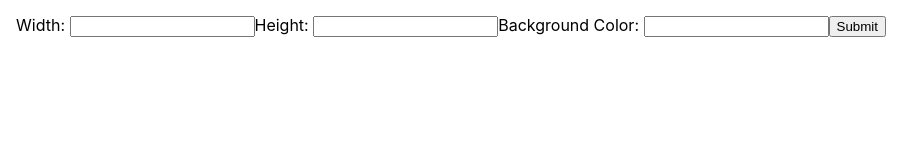
shows box on page when submit form to add box
The width and height of the screenshot is (903, 164).
Check: the text "X" is not shown
In the field labelled "Width:": (162, 26) left=70, top=16, right=254, bottom=37, type "100"
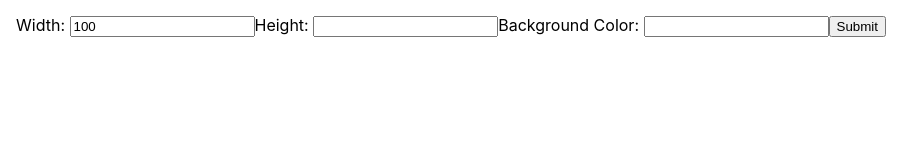
In the field labelled "Height:": (406, 26) left=313, top=16, right=498, bottom=37, type "100"
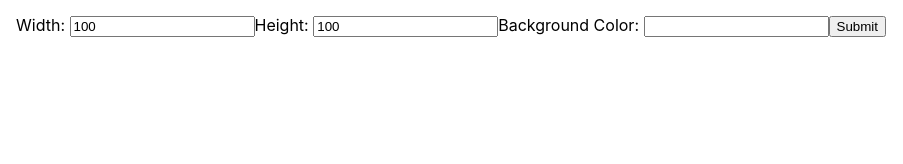
In the field labelled "Background Color:": (736, 26) left=644, top=16, right=828, bottom=37, type "red"
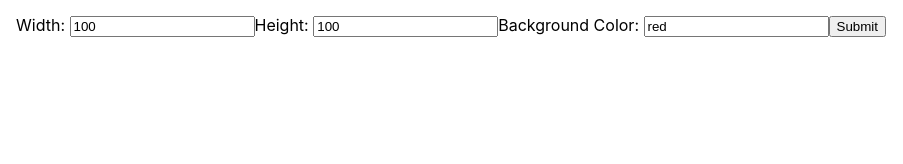
Click the button "Submit": (857, 26) left=828, top=16, right=886, bottom=37
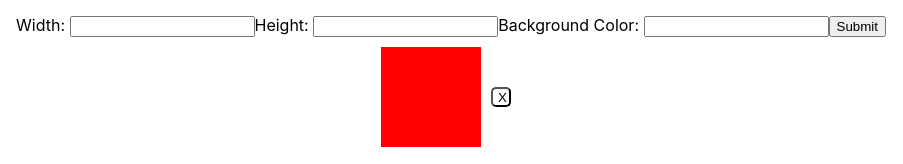
Check: the element with test id "box" is shown, box left=381, top=47, right=521, bottom=147
